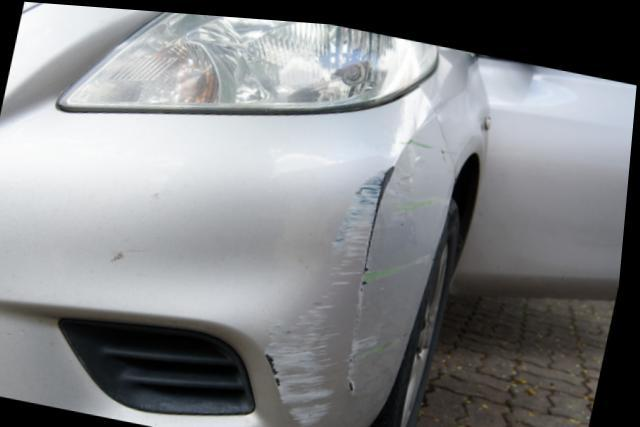scratch: (267, 131, 455, 425)
